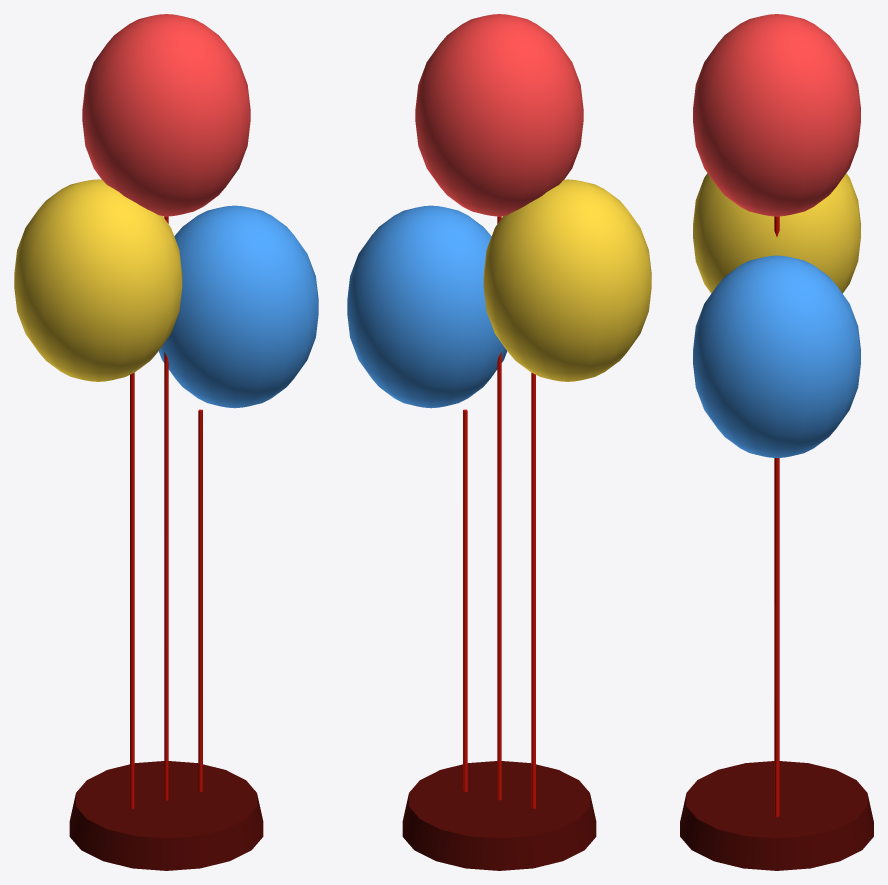
Rendered from decor_fun_1.glb.
The picture shows the model from 3 angles, left to right: view 1: azimuth 30°, elevation 25°; view 2: azimuth 150°, elevation 25°; view 3: azimuth 270°, elevation 25°; orthographic projection.
Bounding box in the file's own units: 0.5 × 1.36 × 0.2954.
